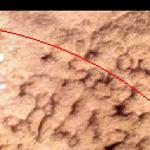alive: (1, 12, 148, 148)
